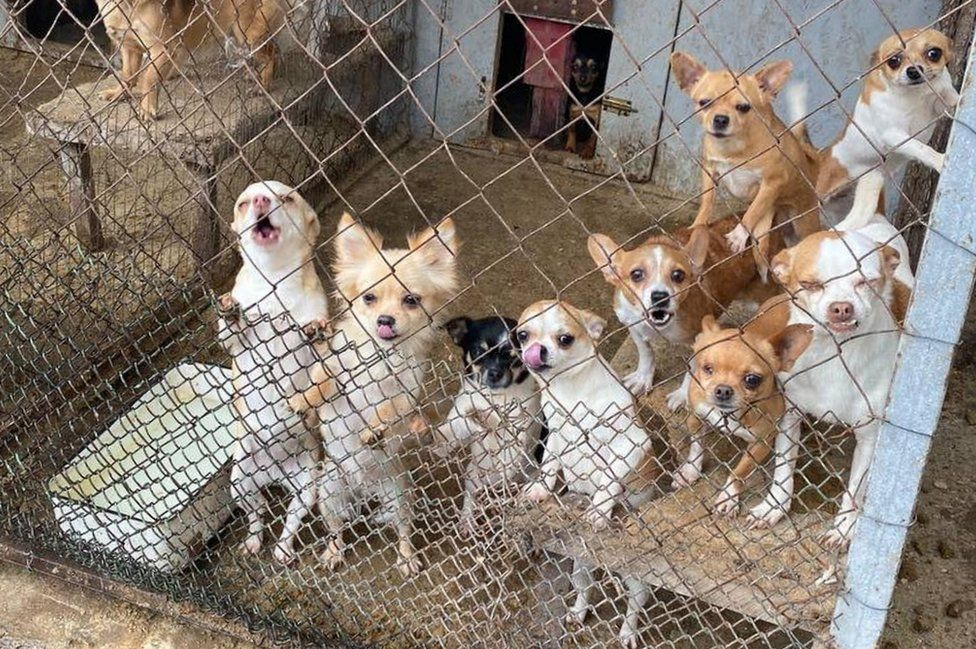pet: (327, 211, 458, 362)
